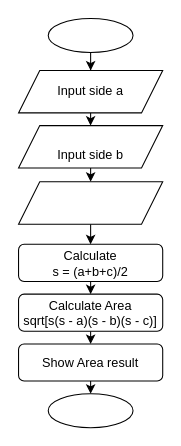
Some shapes in this 181 by 446 pixel diagram are drawn without their labels. Here are the shapes that lost their labels. From the top down, the centre of each, then its label:
At pixel 90 34: "START".
At pixel 90 202: "Input side c".
At pixel 90 410: "END".
